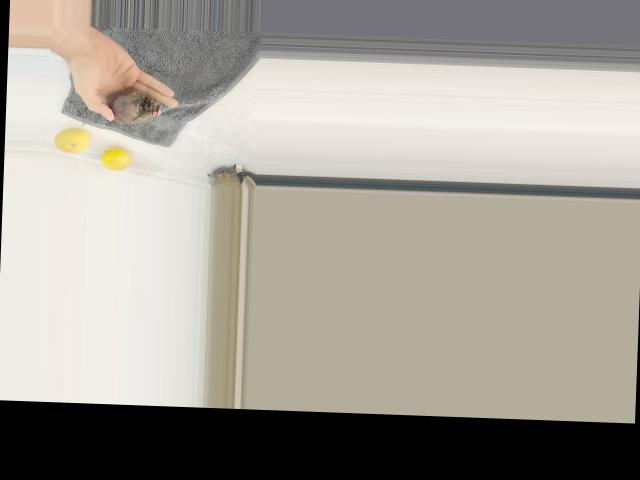beet: (81, 86, 159, 128)
